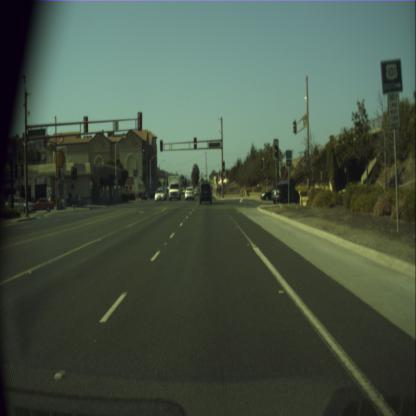Yellow: (274, 144, 277, 158), (222, 162, 225, 172), (194, 136, 196, 148), (234, 162, 235, 167)
